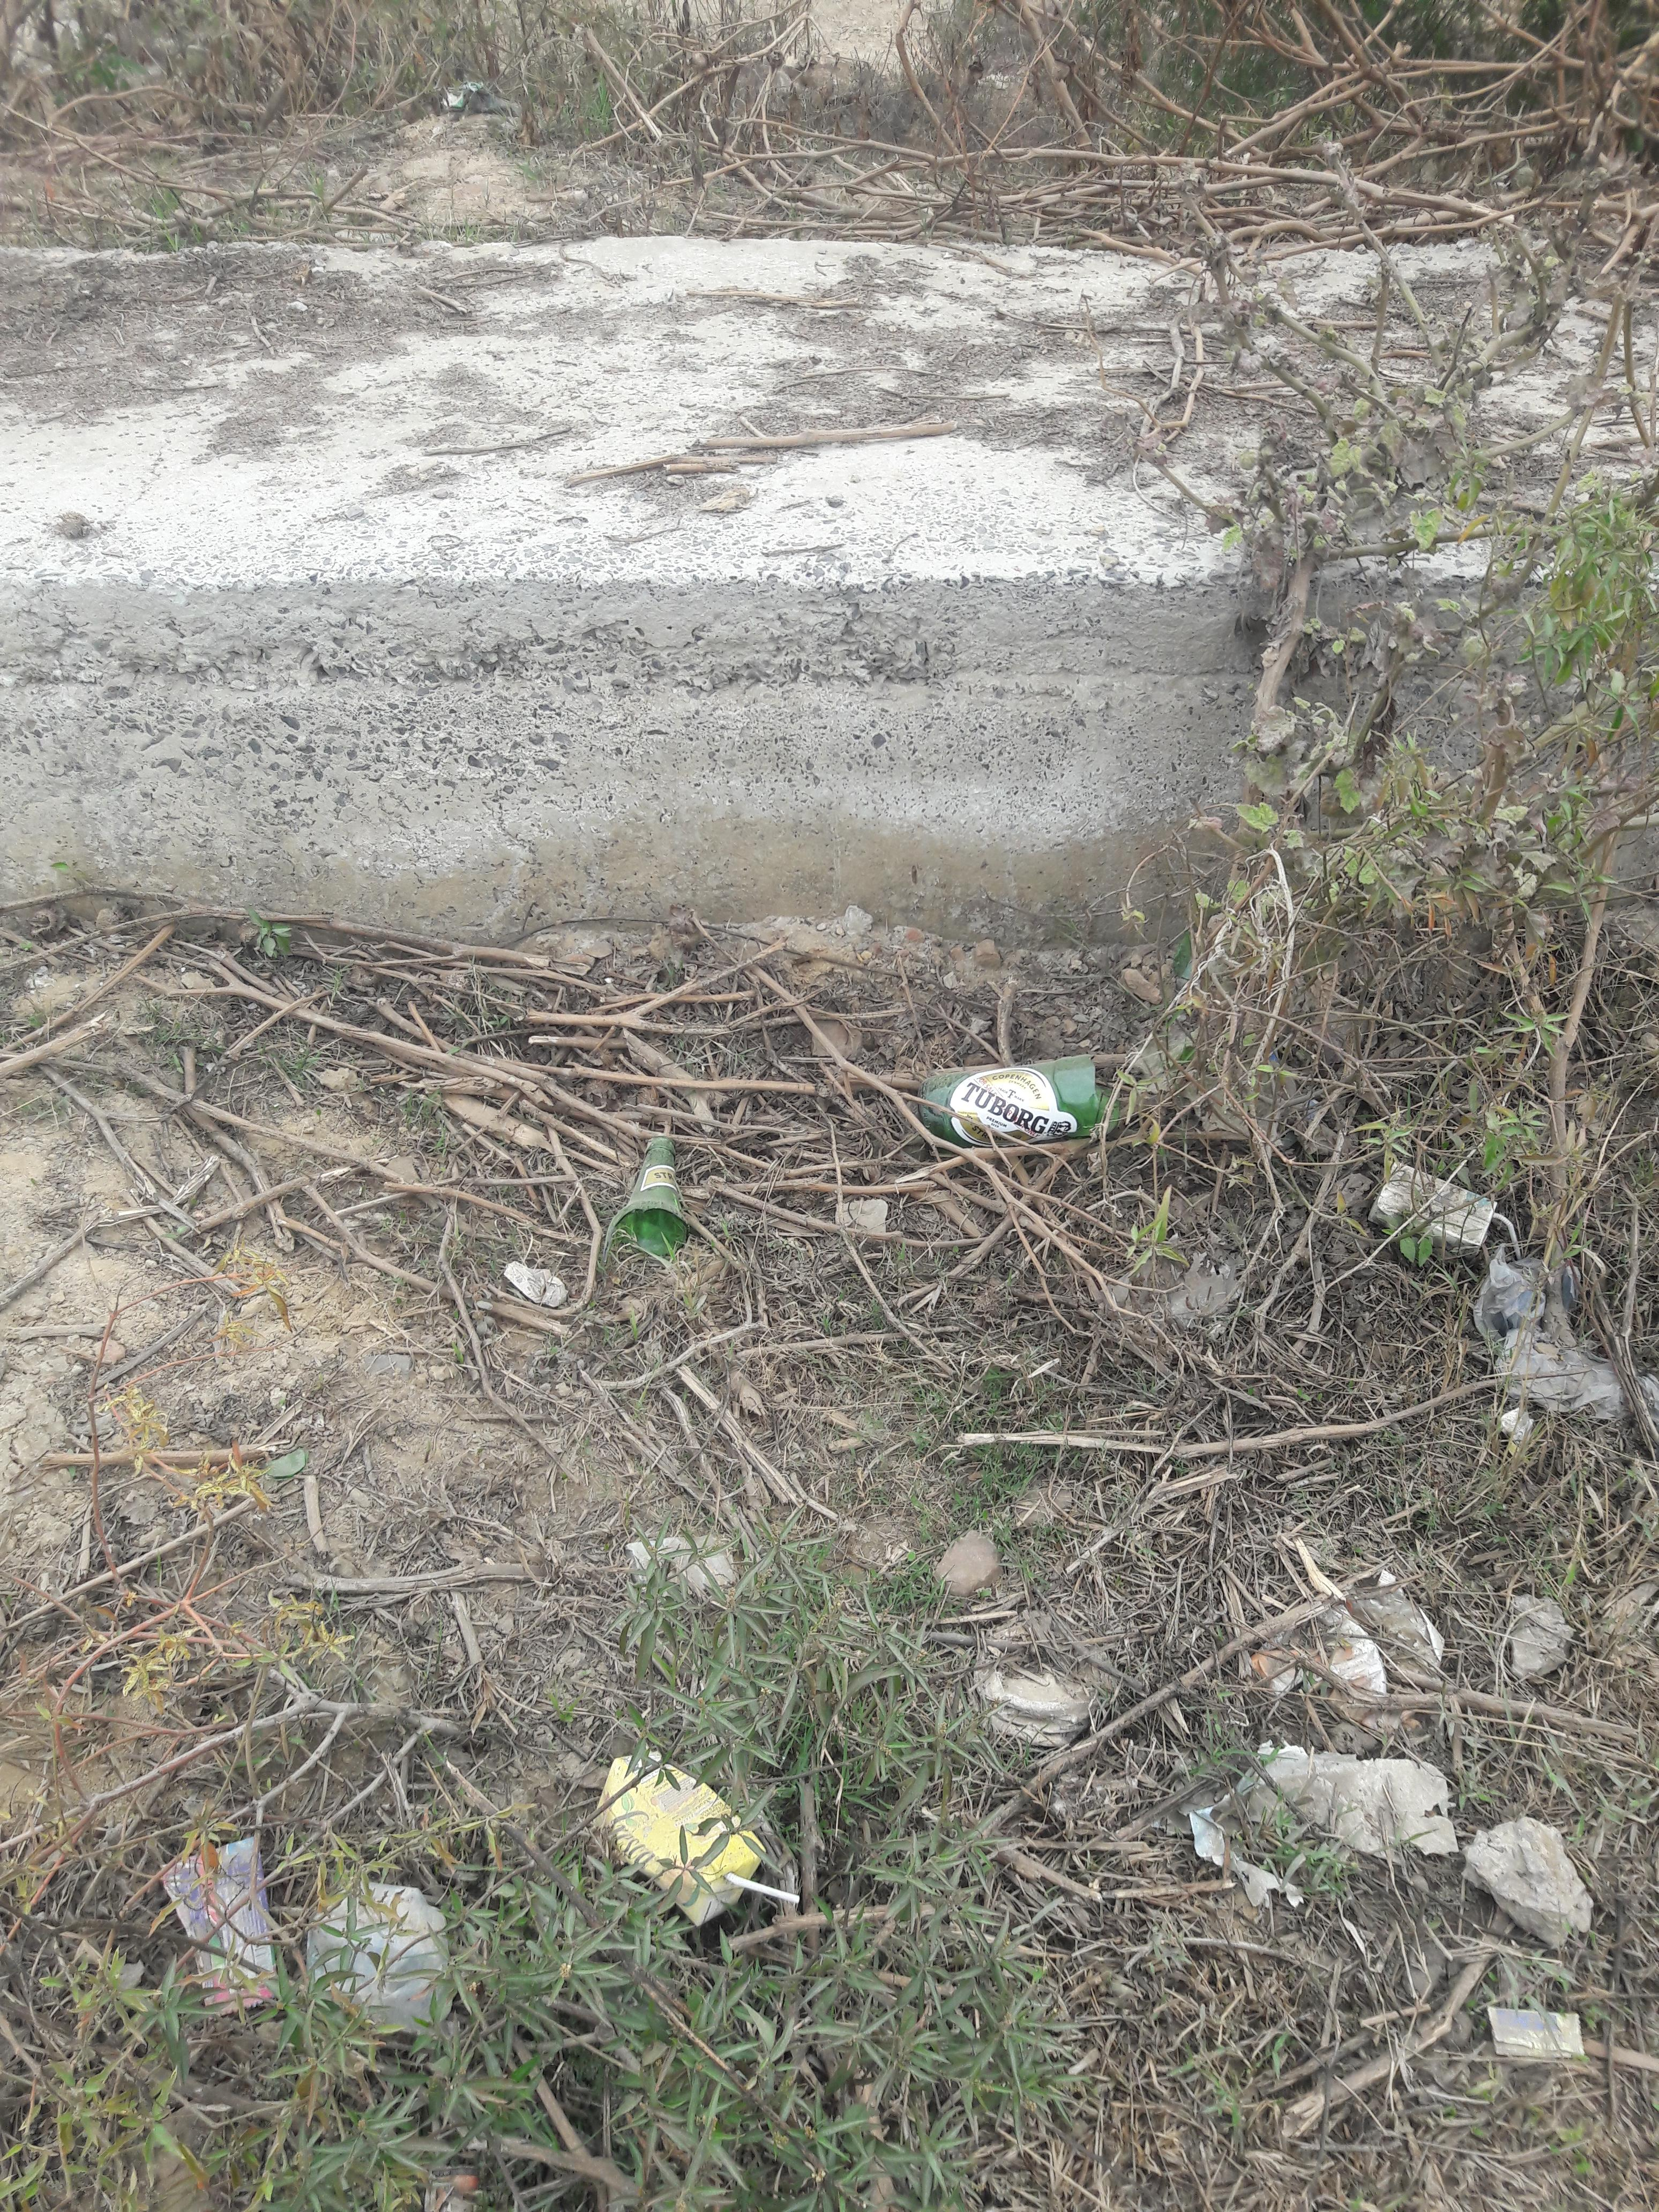organic: (910, 1035, 1131, 1165)
